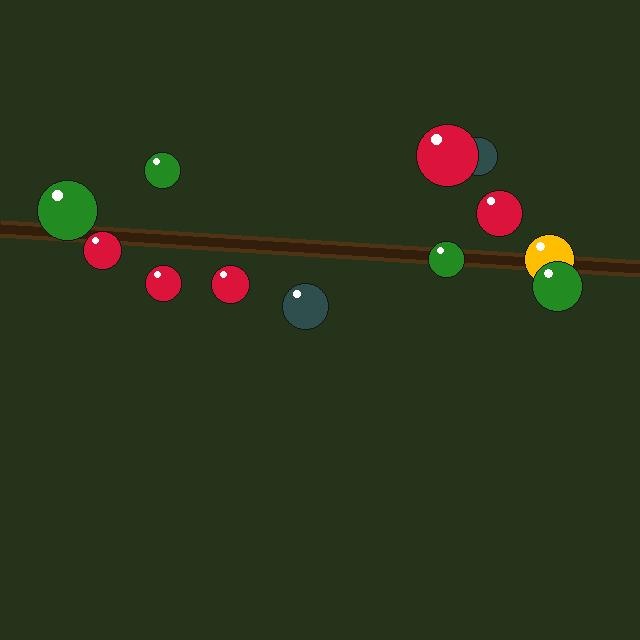Dry_Damaged: (282, 283, 328, 329), (459, 137, 497, 175)
Ripe: (416, 124, 478, 186), (476, 190, 522, 236), (211, 265, 249, 303), (83, 231, 121, 269), (145, 265, 181, 301)
Ripening: (524, 234, 574, 284)
Unripe: (37, 180, 97, 240), (532, 261, 582, 311), (428, 241, 464, 277), (144, 152, 180, 188)
